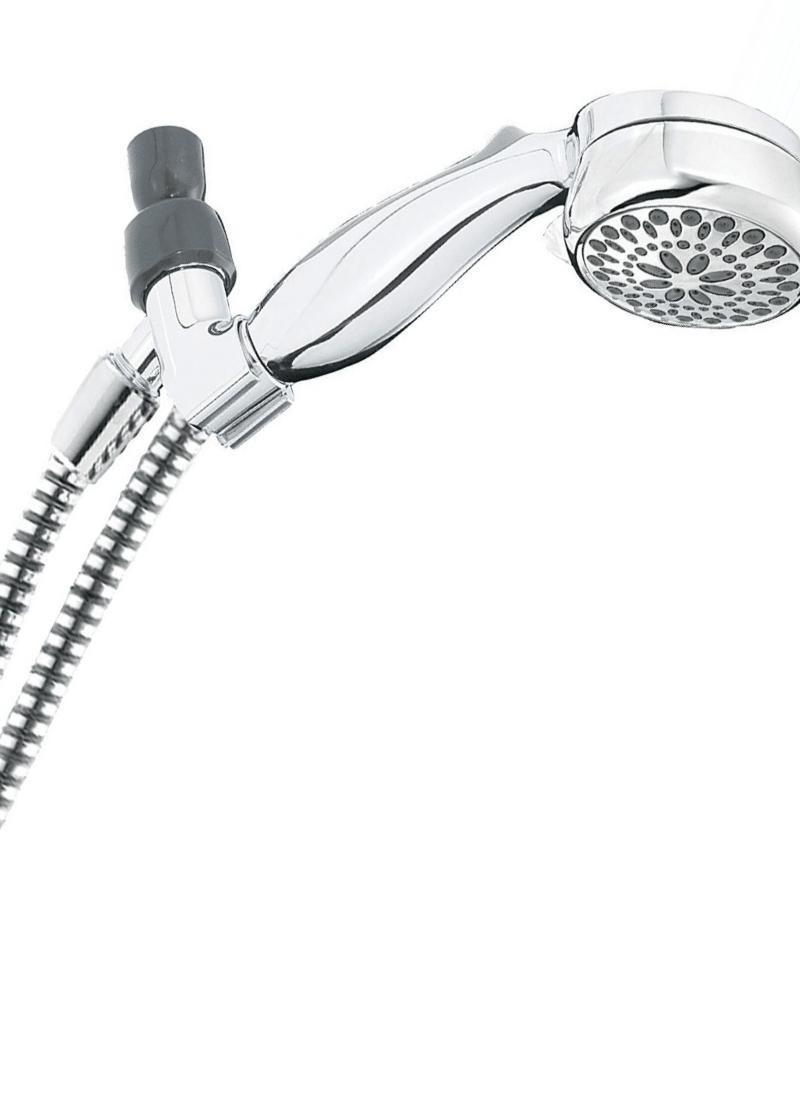Ducha: (0, 103, 799, 777)
